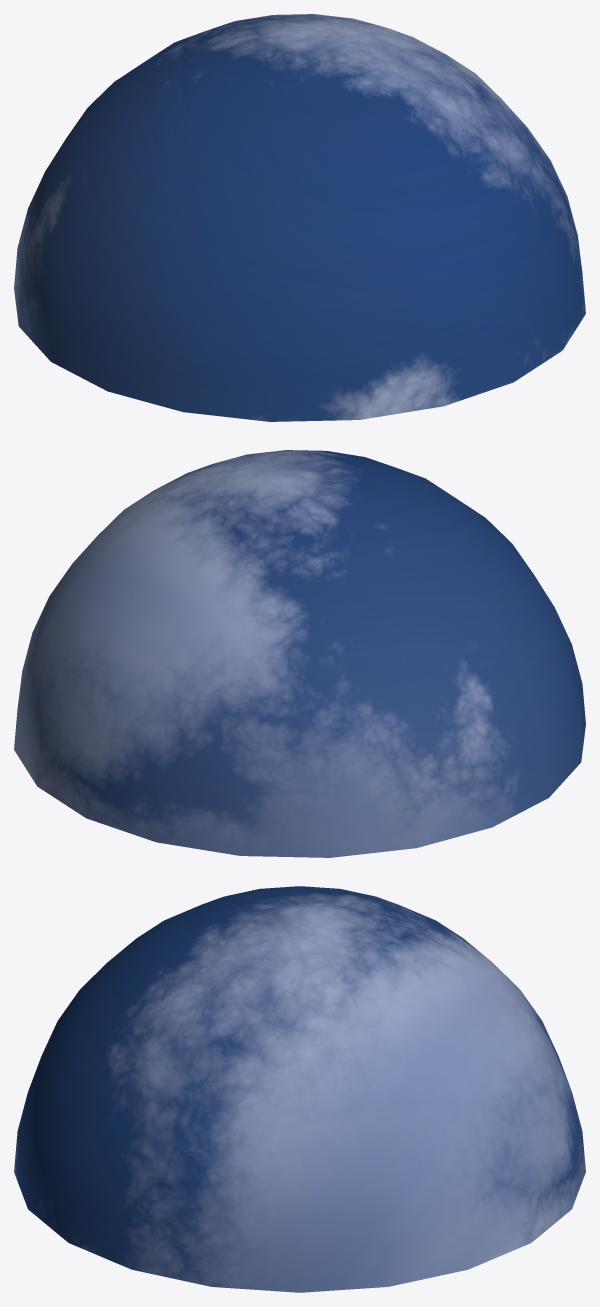
Rendered from dome.obj.
3 views of the same model, one above another, from view 1: azimuth 30°, elevation 25°; view 2: azimuth 150°, elevation 25°; view 3: azimuth 270°, elevation 25° (orthographic).
Size of the model in its own units: 2000 by 1000 by 2000.
Materials: 1 (1 with a texture image).
